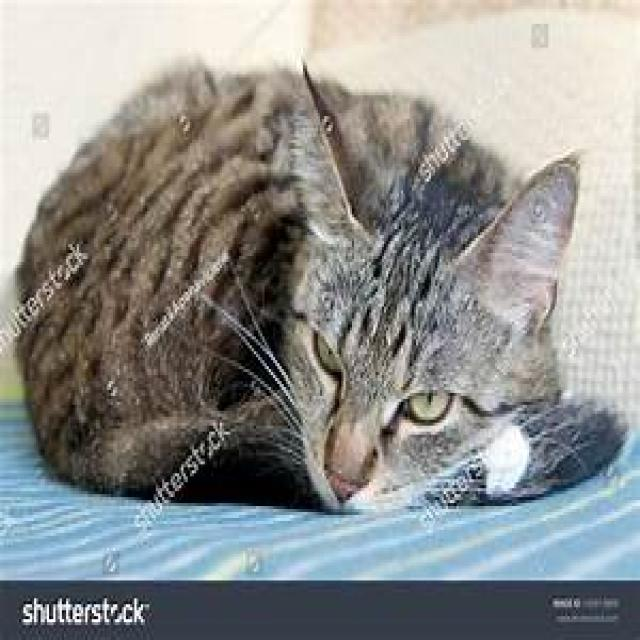animal: (17, 66, 632, 500)
